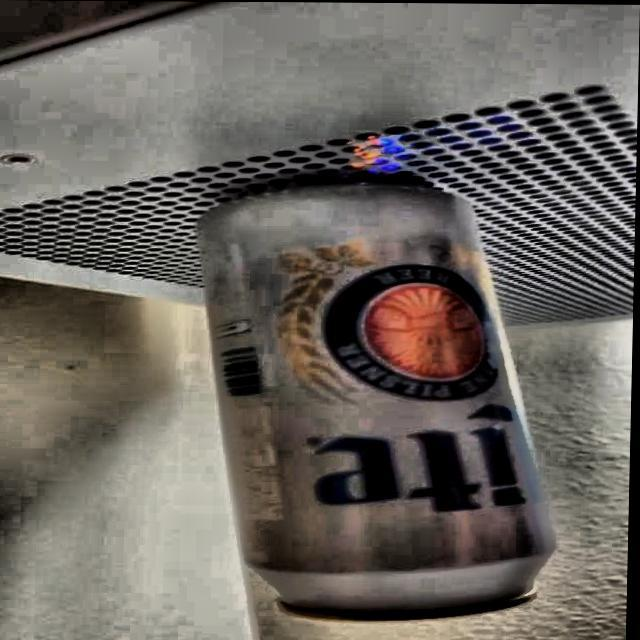Aluminum Can: (175, 170, 566, 640)
